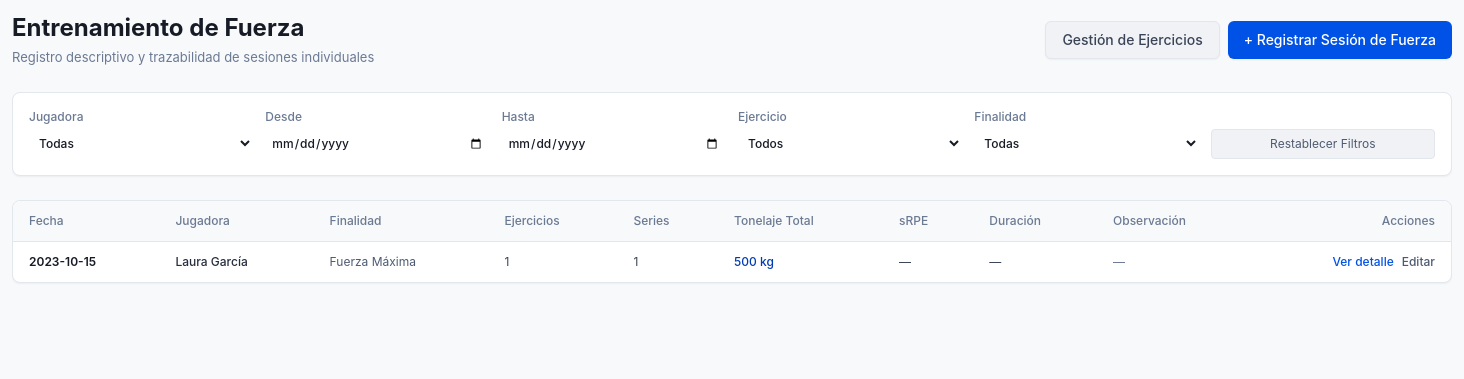
Test: StrengthPage (Full Integration, Isolation & Requirements) › 23. Filtra la tabla por jugadora, fecha y ejercicio correctamente
Filtrar por jugadora que no tiene sesiones (J2)
Step 1. Select "Ana Martínez" in the 1st dropdown → (141, 143), box [29,128,253,158]
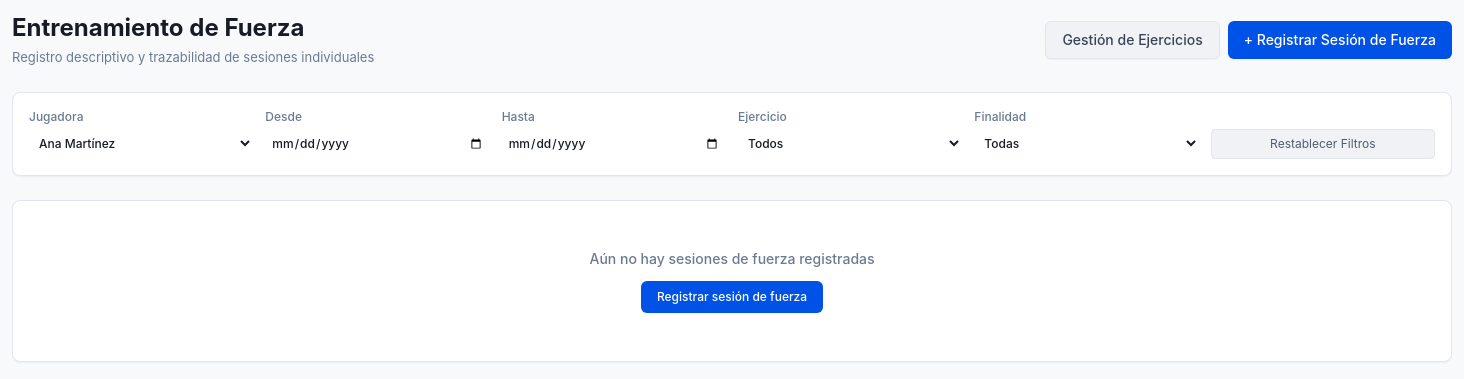
Now the text "Aún no hay sesiones de fuerza registradas" is shown, box [590,250,875,266]
